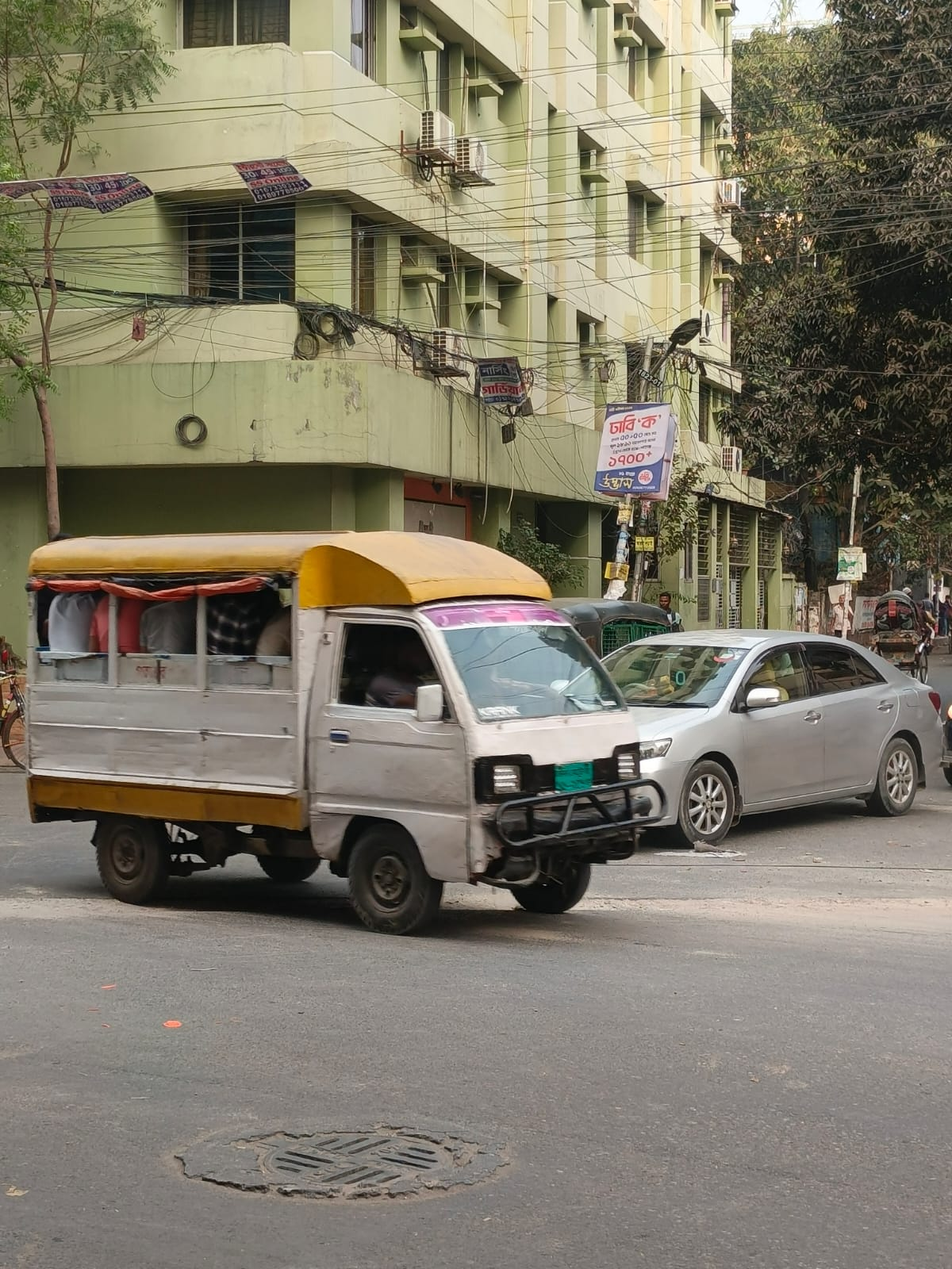Leguna: (0, 505, 662, 1054)
cng: (542, 556, 685, 680)
private car: (600, 617, 952, 898)
